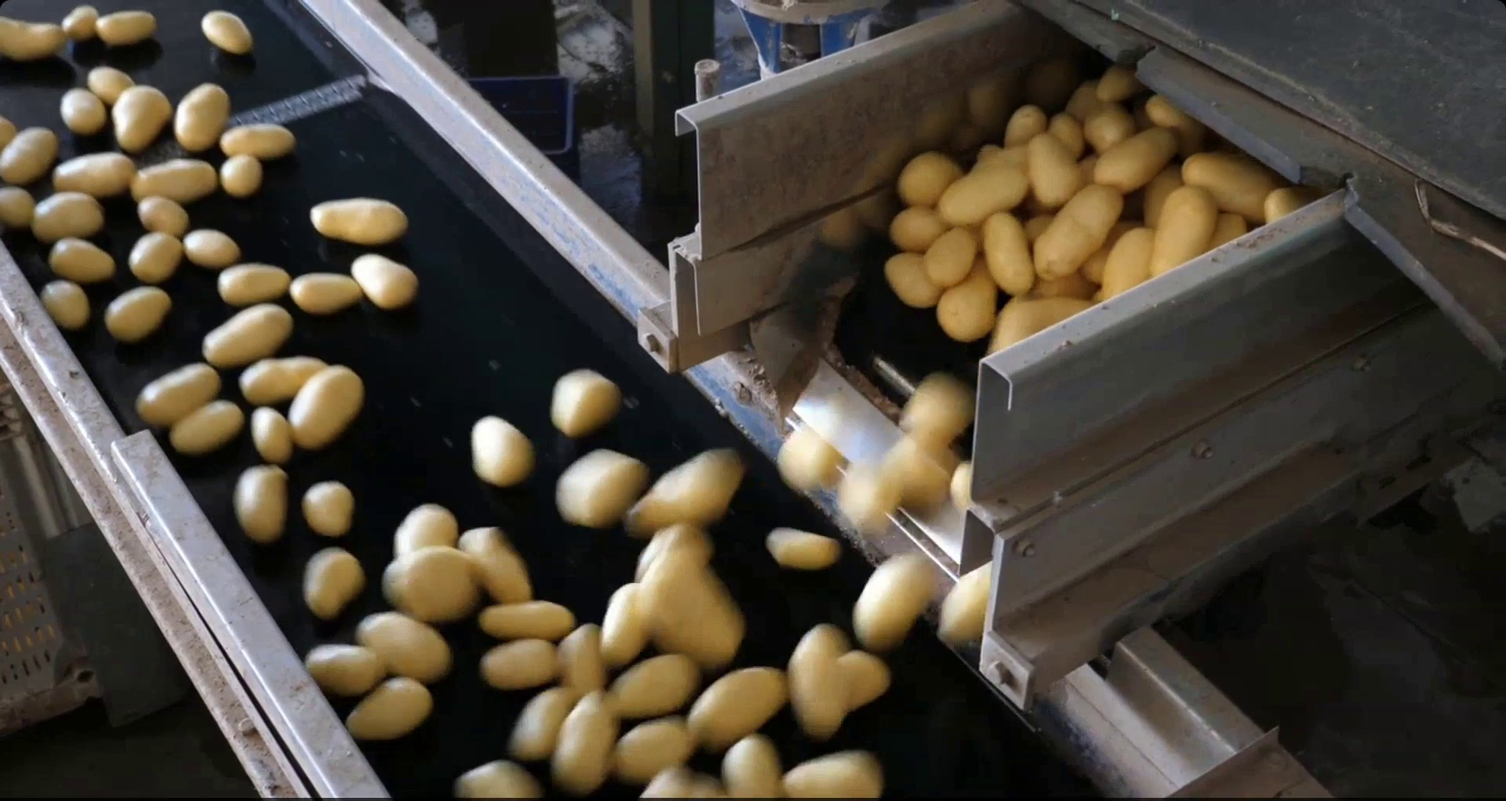potato: (628, 525, 759, 671), (616, 444, 753, 539), (846, 545, 942, 657), (1031, 179, 1127, 280), (684, 662, 794, 750), (784, 617, 853, 745), (382, 541, 487, 625), (550, 447, 651, 531), (550, 689, 623, 798), (1147, 180, 1220, 288), (350, 606, 456, 680), (453, 520, 539, 611), (286, 361, 368, 455), (195, 299, 299, 373), (768, 400, 851, 491), (605, 651, 706, 723), (127, 358, 228, 430), (606, 715, 707, 786), (1180, 148, 1281, 219), (933, 554, 997, 665), (340, 672, 437, 745), (880, 435, 955, 526), (933, 159, 1032, 227), (893, 368, 977, 447), (541, 364, 626, 442), (504, 683, 580, 767), (1089, 125, 1182, 193), (297, 543, 373, 625), (305, 191, 413, 248), (225, 458, 295, 545), (778, 747, 889, 801), (464, 410, 537, 491), (595, 577, 657, 672), (933, 256, 1000, 343), (980, 206, 1039, 302), (231, 353, 341, 404), (386, 495, 465, 566), (169, 74, 238, 155), (300, 637, 391, 698), (110, 80, 178, 159), (346, 248, 426, 315), (838, 460, 903, 541), (1093, 221, 1157, 303), (549, 618, 614, 698), (1023, 126, 1083, 212), (165, 397, 247, 459), (125, 153, 223, 204), (478, 634, 567, 690), (716, 730, 785, 801), (475, 596, 579, 643), (892, 147, 969, 208), (294, 474, 361, 541), (27, 187, 107, 243), (446, 757, 547, 801), (107, 283, 175, 346), (758, 524, 847, 572), (285, 267, 367, 319), (879, 249, 943, 314), (838, 645, 896, 716), (50, 148, 140, 193), (1, 125, 65, 188), (41, 232, 117, 285), (213, 259, 293, 308), (919, 224, 980, 288), (631, 762, 729, 801), (1, 8, 69, 64), (215, 120, 301, 164), (884, 201, 947, 257), (1017, 291, 1097, 334), (34, 277, 93, 335), (196, 5, 258, 60), (125, 230, 189, 283), (982, 290, 1033, 353), (90, 4, 163, 48), (247, 400, 295, 466), (134, 192, 195, 243), (53, 82, 110, 136), (180, 225, 246, 270), (1141, 162, 1184, 230), (1028, 270, 1100, 309), (84, 63, 145, 107), (1142, 91, 1201, 136), (1085, 102, 1137, 153), (217, 148, 267, 199), (105, 51, 140, 123), (1046, 108, 1088, 164), (1001, 101, 1049, 149), (1204, 203, 1252, 248), (1258, 181, 1308, 224), (58, 1, 108, 43), (107, 138, 137, 206), (967, 148, 1045, 174), (1, 182, 40, 232), (1058, 77, 1100, 123), (1093, 60, 1138, 100), (945, 455, 973, 517), (1017, 208, 1057, 246), (1077, 242, 1112, 285), (968, 132, 1006, 168), (1, 107, 21, 166), (105, 241, 117, 287)
